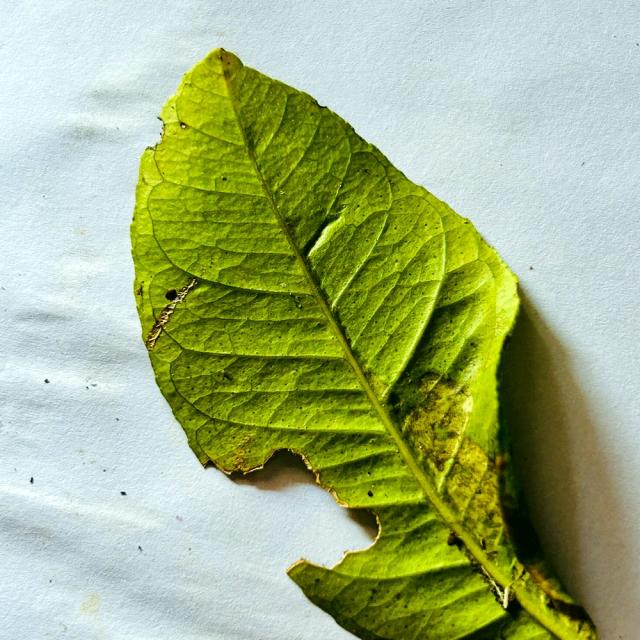Deficiency Leaf: (501, 305, 620, 636), (205, 451, 374, 569)
Lemon: (131, 49, 595, 639)
